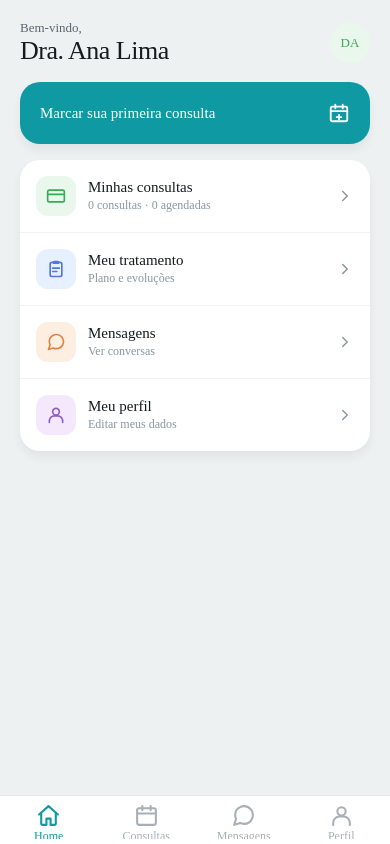
Test: Meu Tratamento (tela) › sem nada compartilhado: mensagem de vazio
The width and height of the screenshot is (390, 844).
What coordinates should you click on to do the following:
click the button with test id "home-meu-tratamento"
I would click on:
 (56, 269)
Its box is x1=20 y1=233 x2=370 y2=306.
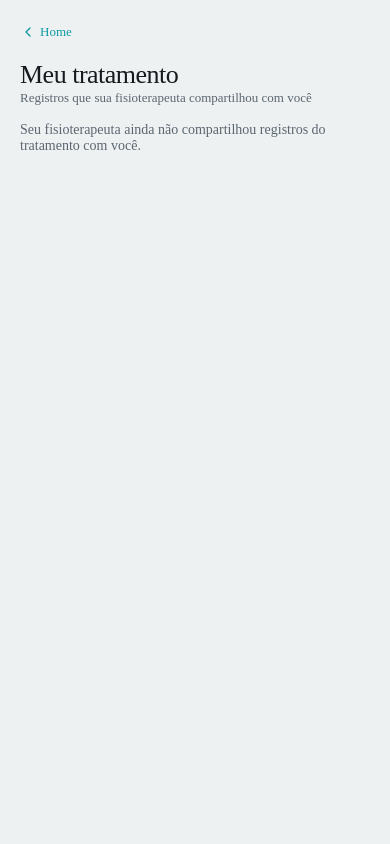
Expected: the heading "Meu tratamento" is shown, x1=20 y1=60 x2=178 y2=89
Expected: the text "Seu fisioterapeuta ainda não compartilhou registros do tratamento com você." is shown, x1=20 y1=122 x2=370 y2=154
Expected: the button "evoluções" is gone
